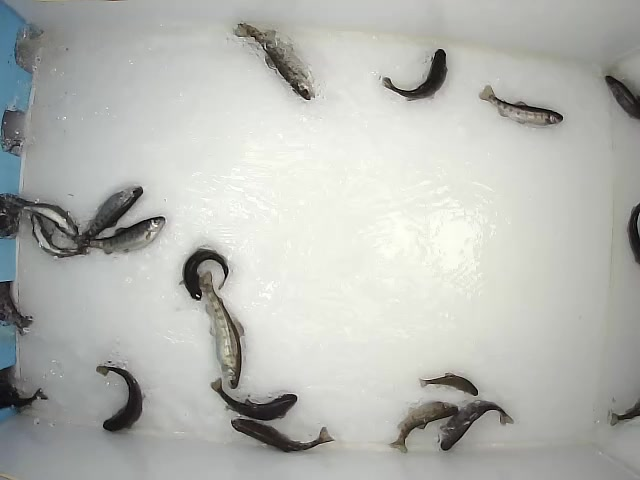fish: (233, 22, 317, 103), (198, 268, 245, 392), (228, 416, 336, 456), (437, 398, 515, 452), (209, 375, 298, 422), (477, 80, 564, 127), (378, 47, 451, 103), (386, 401, 460, 452), (80, 185, 145, 242), (96, 362, 146, 432), (85, 213, 167, 254), (177, 245, 230, 302), (12, 200, 83, 240), (29, 215, 86, 257), (415, 370, 479, 398)
